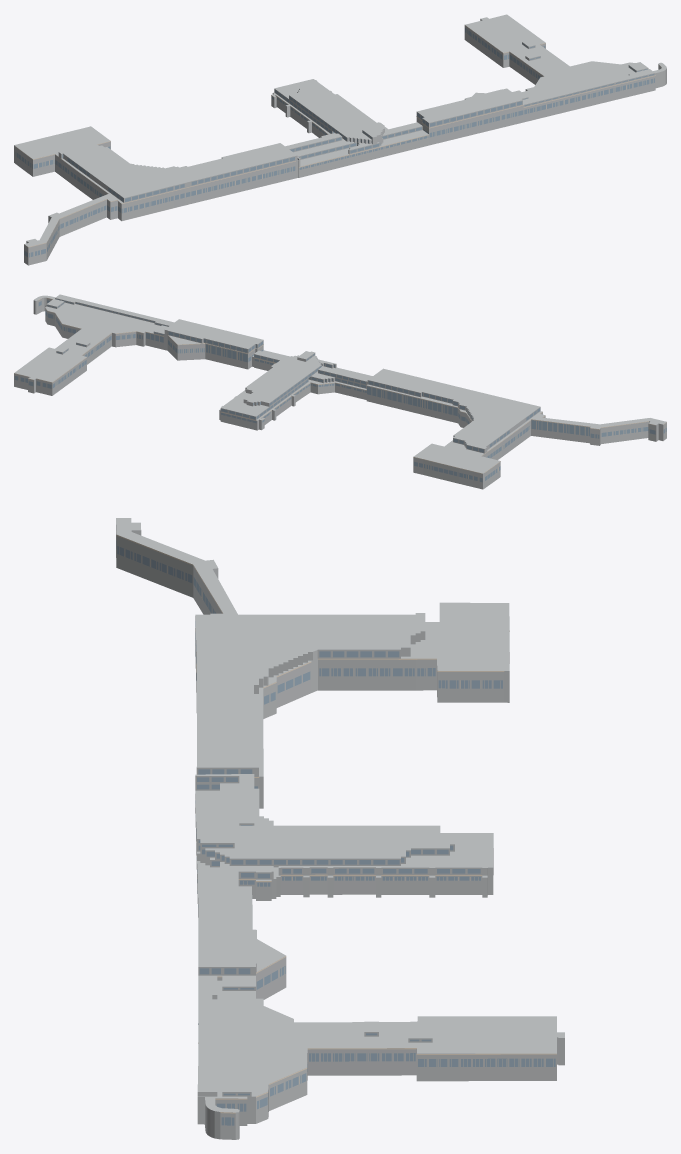
Rendered from la-lax-terminals-1-3.detail.glb.
The picture shows the model from 3 angles, top to bottom: view 1: azimuth 30°, elevation 25°; view 2: azimuth 150°, elevation 25°; view 3: azimuth 270°, elevation 25°; orthographic projection. The views are drawn at different scales.
Visible parts, largest first — view 1: LAX Terminals 1-3; view 2: LAX Terminals 1-3; view 3: LAX Terminals 1-3.
Part boxes in pixels (x1,y1,x2,y2): LAX Terminals 1-3: [14, 14, 666, 265]; LAX Terminals 1-3: [14, 294, 666, 489]; LAX Terminals 1-3: [116, 518, 564, 1139].
Bounding box in the file's own units: 853 × 27.5 × 275.
